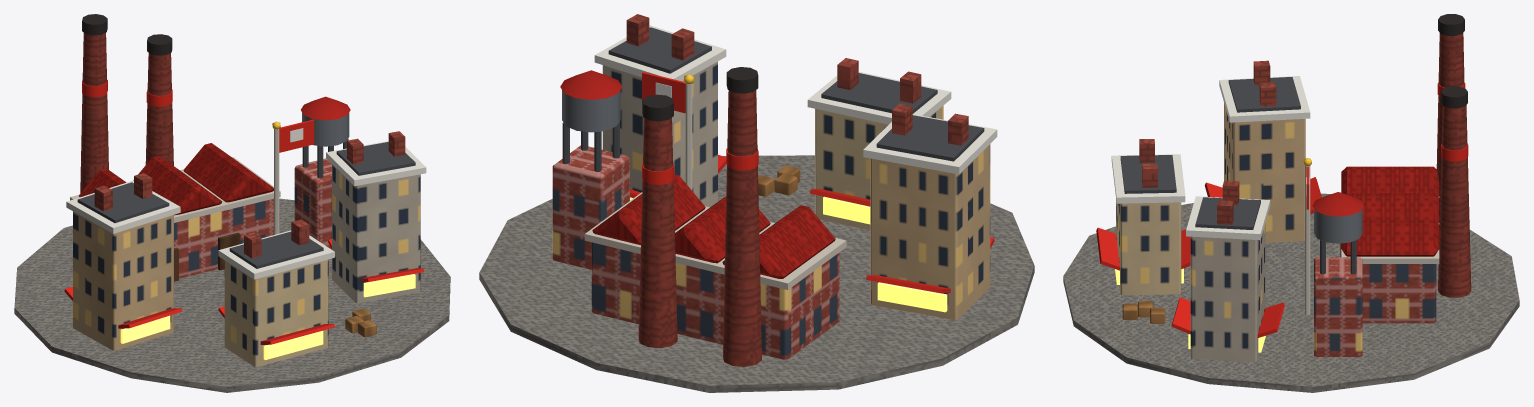
File: city_dl5_red.glb
3 renders of one model, left to right at view 1: azimuth 30°, elevation 25°; view 2: azimuth 150°, elevation 25°; view 3: azimuth 270°, elevation 25°, orthographic. The views are drawn at different scales.
Parts seen in each view (by area): view 1: city_dl5_red; view 2: city_dl5_red; view 3: city_dl5_red.
Part boxes in pixels (box(x1,y1,x2,y2)): city_dl5_red: box(14, 14, 450, 392); city_dl5_red: box(479, 14, 1034, 392); city_dl5_red: box(1063, 14, 1519, 392).
Bounding box in the file's own units: 1.52 × 0.88 × 1.49.
Materials: 2 (1 with a texture image).
